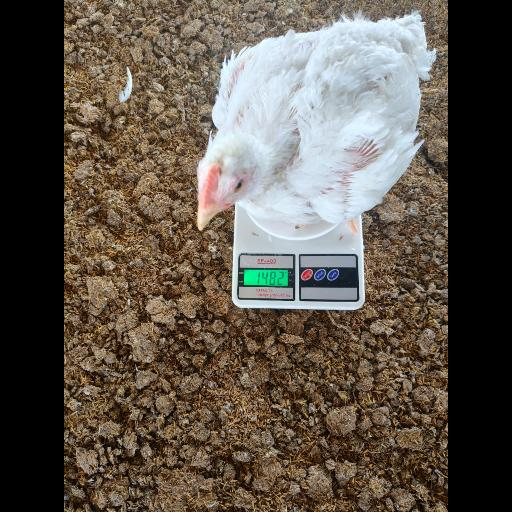chick: (199, 9, 437, 228)
